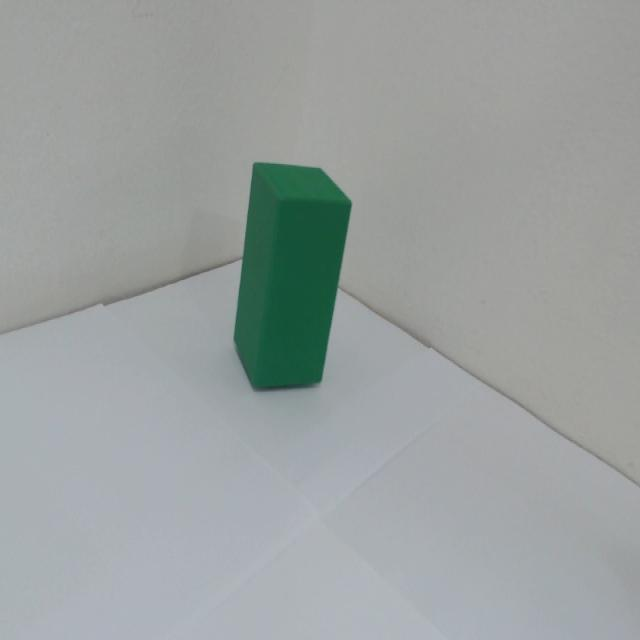cube: (221, 107, 411, 558)
